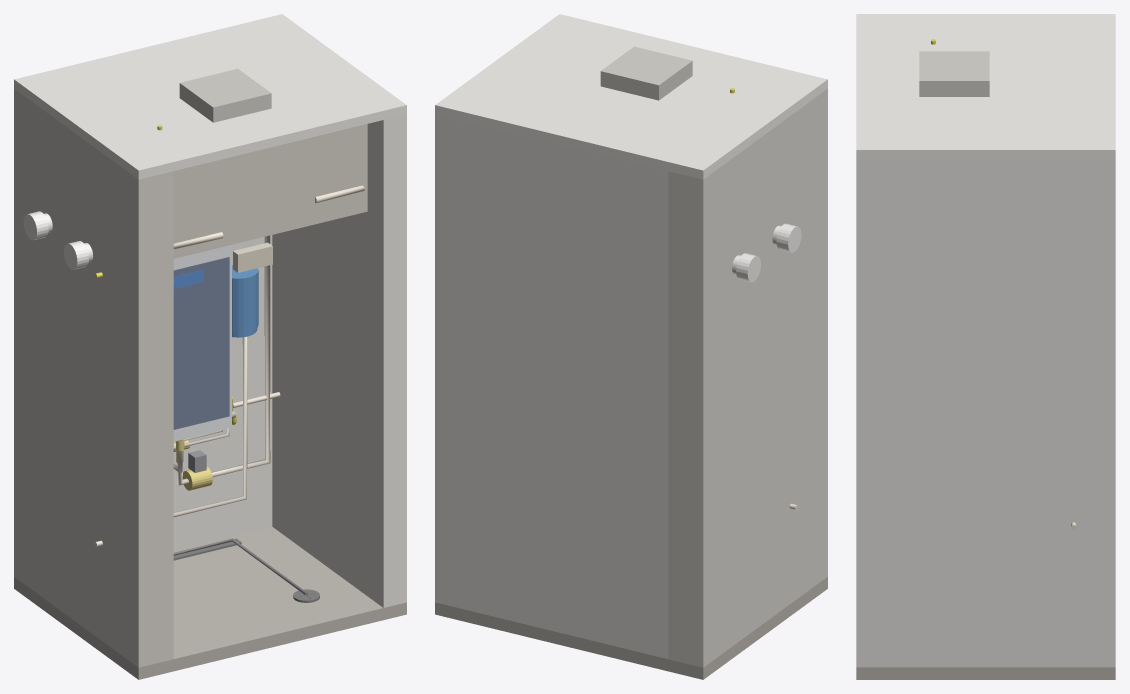
File: boiler_closet_v13_rxp199in.glb
3 renders of one model, left to right at view 1: azimuth 30°, elevation 25°; view 2: azimuth 150°, elevation 25°; view 3: azimuth 270°, elevation 25°, orthographic. The views are drawn at different scales.
Parts seen in each view (by area): view 1: WallLeft, WallRight, Ceiling, Floor, AirHandler, WallBack, RinnaiFace, SupplyDuct, HS_Run, Rinnai, ExpTank, Exp_Run (+3 smaller); view 2: WallBack, WallLeft, Ceiling, WallRight, Floor, SupplyDuct, VentInt_Cap, VentExh_Cap; view 3: WallRight, Ceiling, Floor, SupplyDuct.
Boxes of the visible parts, bbox=[...] form: WallLeft: bbox=[14, 89, 173, 667]; WallRight: bbox=[272, 114, 406, 607]; Ceiling: bbox=[14, 14, 406, 179]; Floor: bbox=[14, 526, 406, 679]; AirHandler: bbox=[173, 124, 367, 258]; WallBack: bbox=[173, 235, 272, 550]; RinnaiFace: bbox=[173, 257, 229, 429]; SupplyDuct: bbox=[179, 68, 271, 122]; HS_Run: bbox=[177, 185, 364, 485]; Rinnai: bbox=[173, 245, 231, 441]; ExpTank: bbox=[232, 265, 258, 333]; Exp_Run: bbox=[173, 336, 247, 517]; WallBack: bbox=[458, 120, 668, 658]; WallLeft: bbox=[668, 89, 827, 667]; Ceiling: bbox=[435, 14, 827, 179]; WallRight: bbox=[435, 114, 458, 607]; Floor: bbox=[435, 577, 827, 679]; SupplyDuct: bbox=[600, 46, 692, 100]; VentInt_Cap: bbox=[776, 223, 801, 252]; VentExh_Cap: bbox=[736, 253, 761, 282]; WallRight: bbox=[856, 159, 1115, 667]; Ceiling: bbox=[856, 14, 1115, 159]; Floor: bbox=[856, 667, 1115, 679]; SupplyDuct: bbox=[919, 51, 989, 96].
Bounding box in the file's own units: 1.27 × 2.18 × 0.9398.
